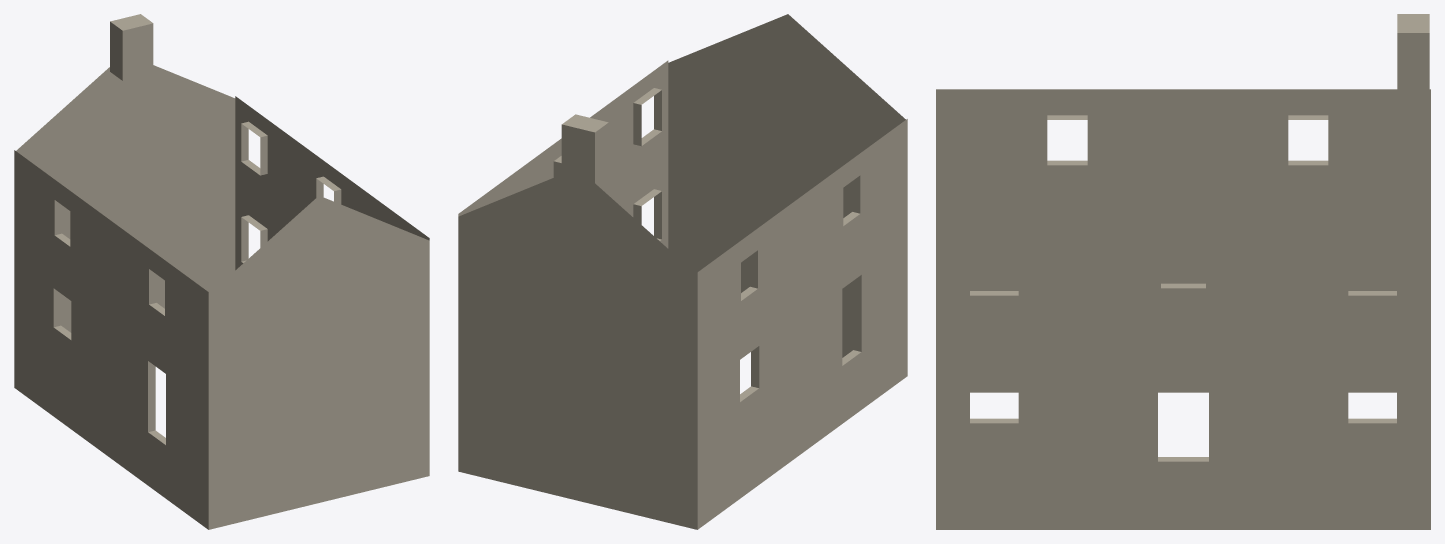
The model's file is SM_Bld_127_Render.glb.
The picture shows the model from 3 angles, left to right: view 1: azimuth 30°, elevation 25°; view 2: azimuth 150°, elevation 25°; view 3: azimuth 270°, elevation 25°; orthographic projection. The views are drawn at different scales.
Visible parts, largest first — view 1: SM_Bld_127_Render; view 2: SM_Bld_127_Render; view 3: SM_Bld_127_Render.
Part boxes in pixels (left/top/right/bottom): SM_Bld_127_Render: left=14, top=14, right=429, bottom=529; SM_Bld_127_Render: left=458, top=14, right=907, bottom=529; SM_Bld_127_Render: left=936, top=14, right=1430, bottom=529.
Bounding box in the file's own units: 6.49 × 9.63 × 9.87.
